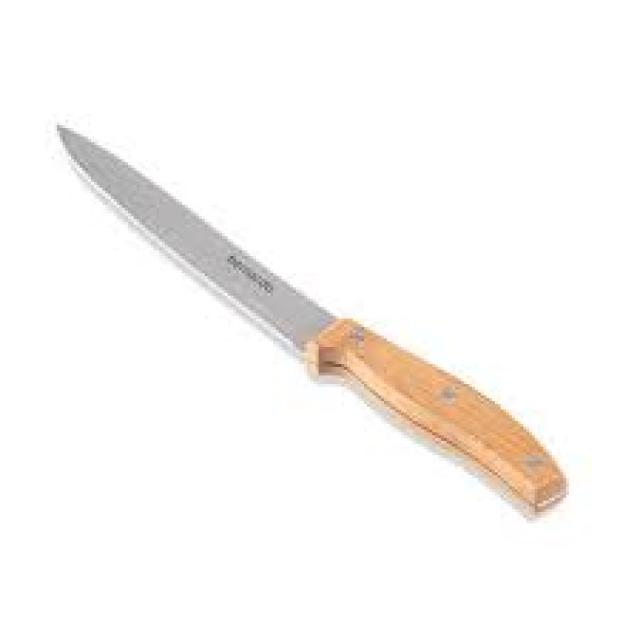knife: (53, 111, 576, 522)
